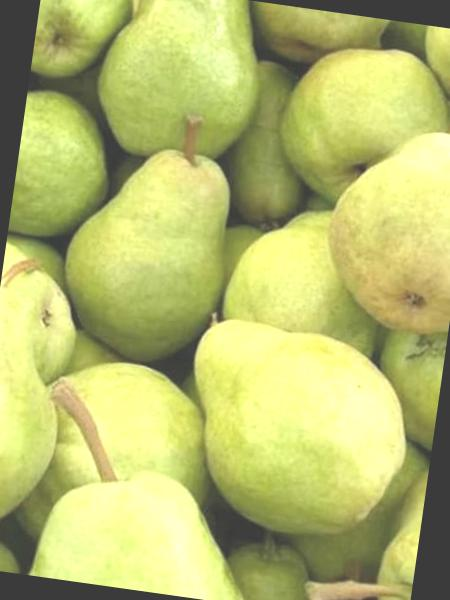Pear Unripe: (56, 137, 238, 357)
